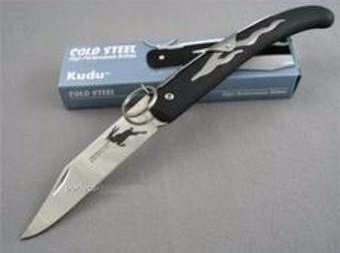knife: (15, 93, 178, 242)
